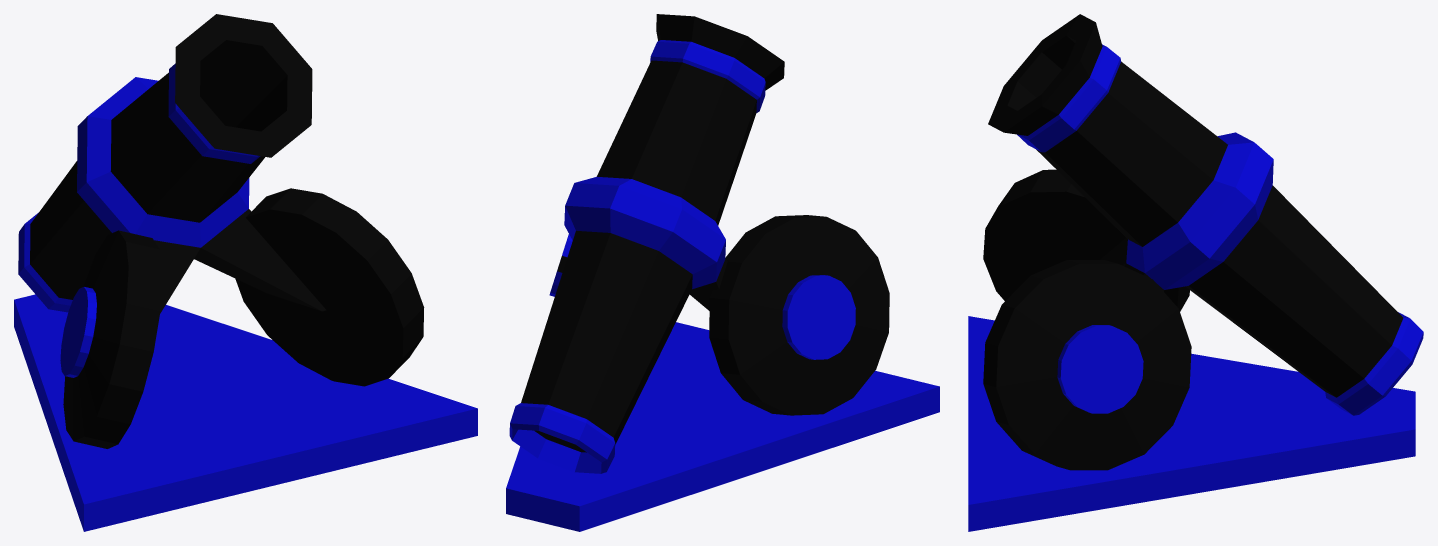
Rendered from Mortar_Tower_Water.fbx.
3 views of the same model, side by side, from view 1: azimuth 30°, elevation 25°; view 2: azimuth 150°, elevation 25°; view 3: azimuth 270°, elevation 25° (orthographic). The views are drawn at different scales.
Parts seen in each view (by area): view 1: Circle; view 2: Circle; view 3: Circle.
Part boxes in pixels (bbox=[...]): Circle: bbox=[14, 14, 477, 531]; Circle: bbox=[506, 14, 939, 531]; Circle: bbox=[968, 14, 1423, 531].
Size of the model in its own units: 593 by 608 by 604.
Materials: 1 (1 with a texture image).
